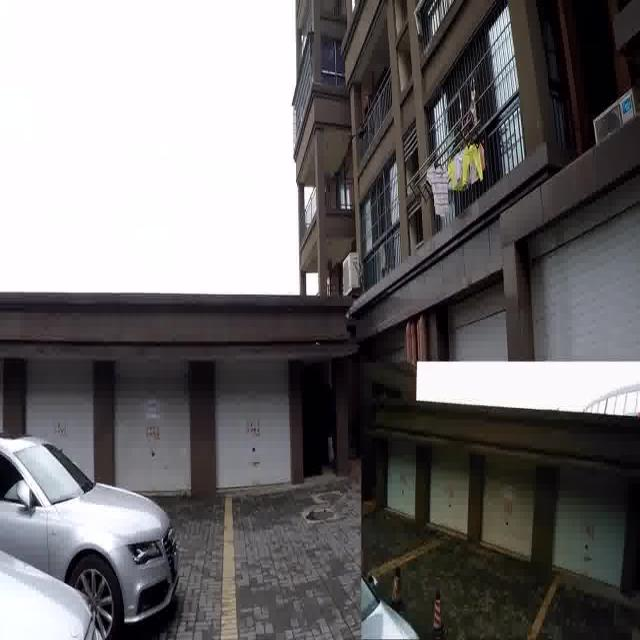drones: (345, 115, 378, 152)
